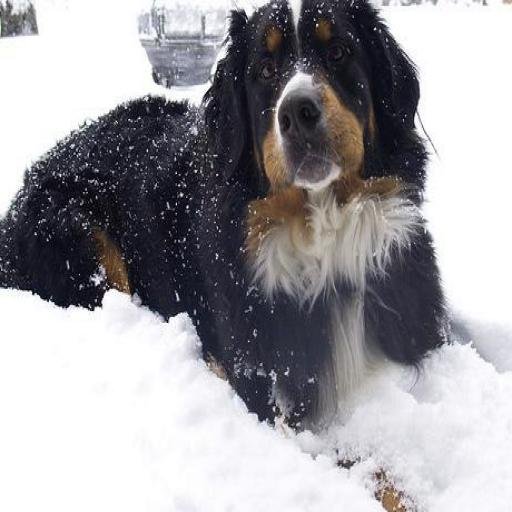dog_face: (215, 0, 422, 201)
